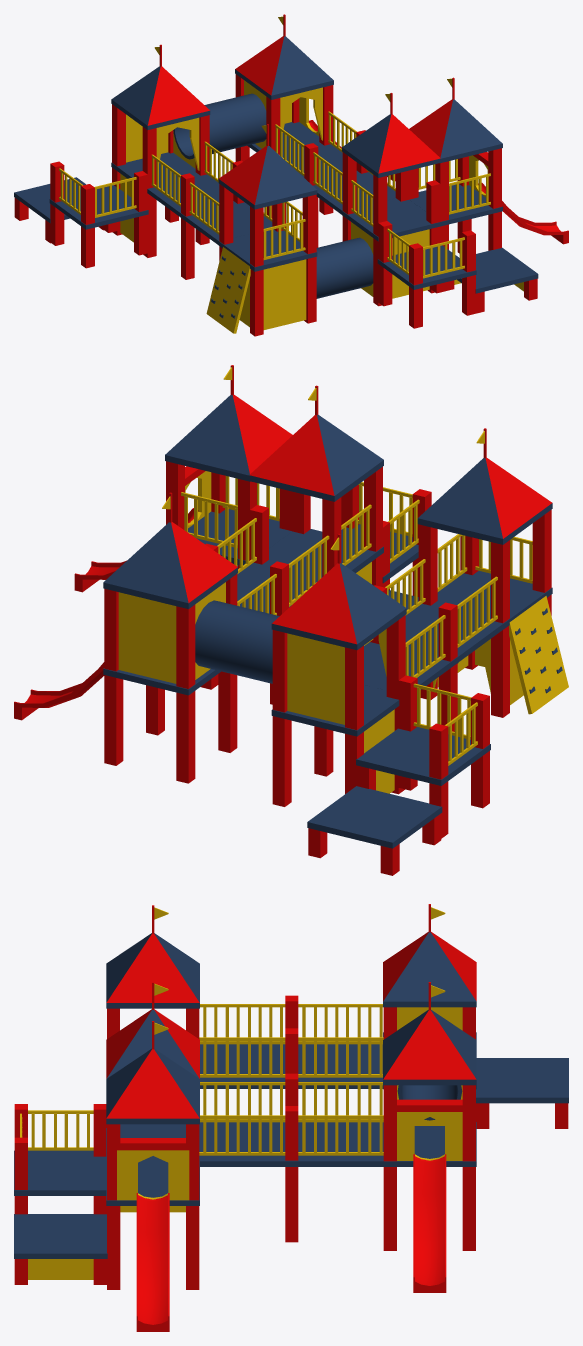
File: Playground_Large.fbx
The picture shows the model from 3 angles, top to bottom: view 1: azimuth 30°, elevation 25°; view 2: azimuth 150°, elevation 25°; view 3: azimuth 270°, elevation 25°; orthographic projection. The views are drawn at different scales.
Parts seen in each view (by area): view 1: ParkPlayground; view 2: ParkPlayground; view 3: ParkPlayground.
Boxes of the visible parts, x1=… form: ParkPlayground: x1=14, y1=14, x2=568, y2=336; ParkPlayground: x1=14, y1=365, x2=568, y2=875; ParkPlayground: x1=14, y1=904, x2=568, y2=1331.
Bounding box in the file's own units: 37.6 × 17.84 × 36.05.
